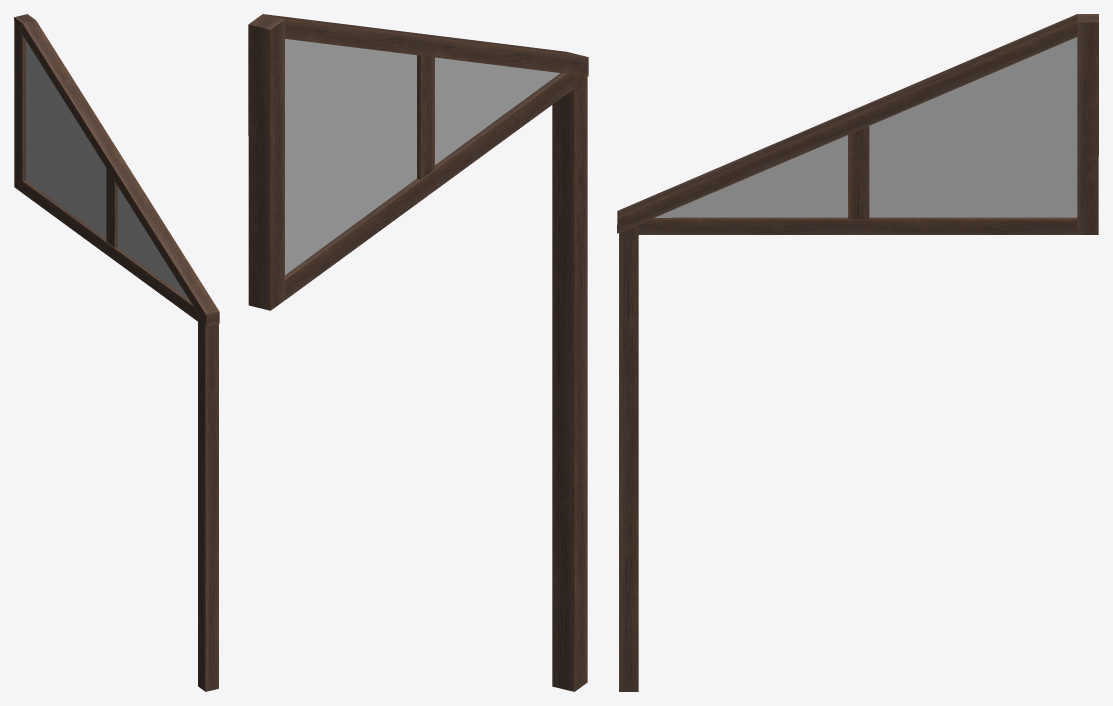
File: yane_frame_2t_1f_1.fbx
3 views of the same model, side by side, from view 1: azimuth 30°, elevation 25°; view 2: azimuth 150°, elevation 25°; view 3: azimuth 270°, elevation 25° (orthographic). The views are drawn at different scales.
Visible parts, largest first — view 1: yane_frame_2t_1f_1; view 2: yane_frame_2t_1f_1; view 3: yane_frame_2t_1f_1.
Part boxes in pixels (x1,y1,x2,y2): yane_frame_2t_1f_1: (14,14,219,691); yane_frame_2t_1f_1: (248,14,588,691); yane_frame_2t_1f_1: (617,14,1098,691).
Bounding box in the file's own units: 18.5 × 708 × 461.
